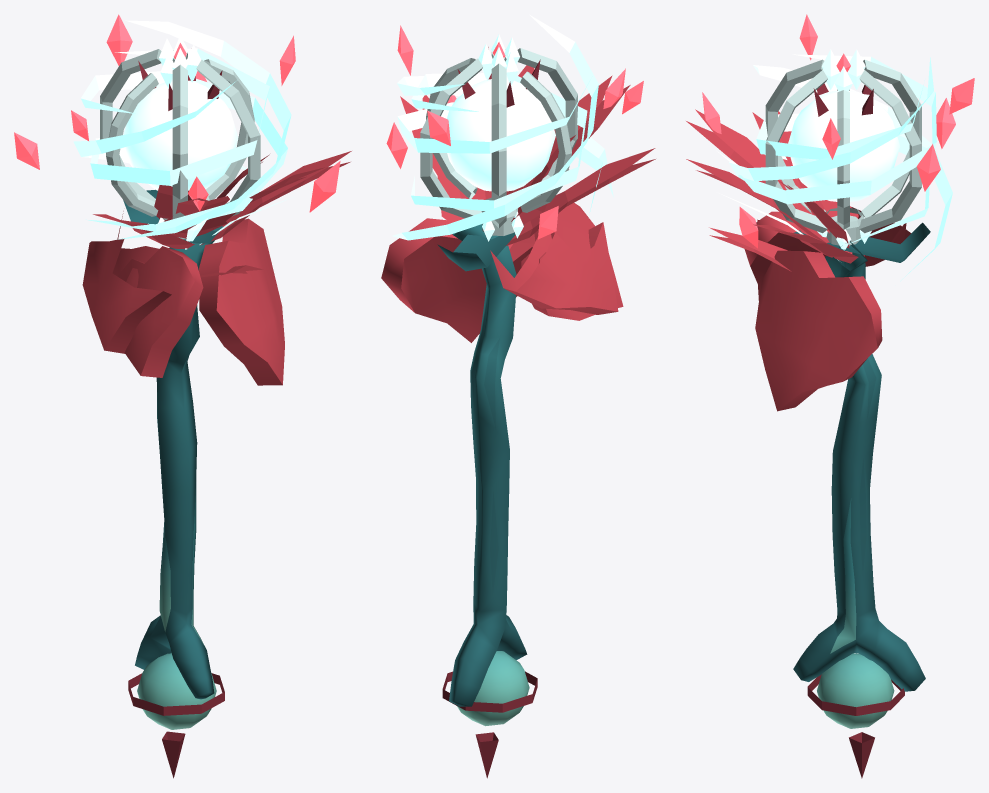
Rendered from staff_wind_mythic.glb.
The picture shows the model from 3 angles, left to right: view 1: azimuth 30°, elevation 25°; view 2: azimuth 150°, elevation 25°; view 3: azimuth 270°, elevation 25°; orthographic projection. The views are drawn at different scales.
Parts seen in each view (by area): view 1: staff_wind_mythic; view 2: staff_wind_mythic; view 3: staff_wind_mythic.
Part boxes in pixels (<box>): staff_wind_mythic: <box>14,14,351,778</box>; staff_wind_mythic: <box>381,14,655,778</box>; staff_wind_mythic: <box>686,14,974,778</box>.
Size of the model in its own units: 78.38 by 211 by 76.19.
7 materials, 1 textured.
